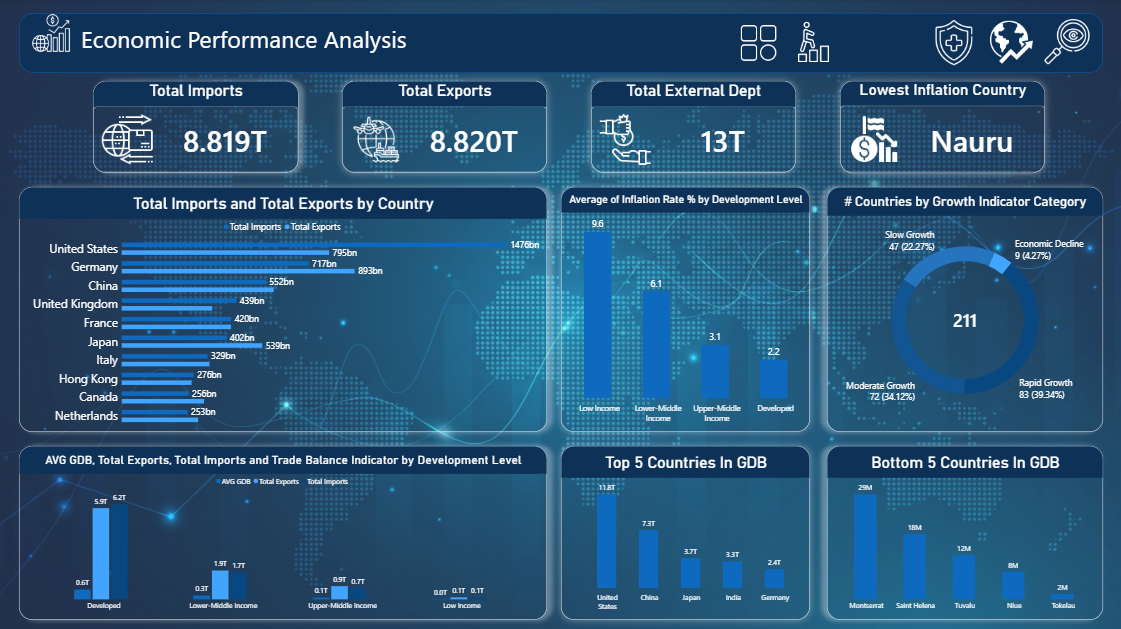

The dashboard page shown, as its layout file describes it:
{"tool":"powerbi","page":{"name":"Economic Performance Analysis","canvas":[2560,1440],"ordinal":2},"visuals":[{"type":"shape","box":[45.6,31.9,2469.9,136.7],"z":0},{"type":"textbox","box":[186.8,54.7,754.2,91.1],"z":1000},{"type":"image","box":[66.1,31.9,104.8,91.1],"z":2000},{"type":"cardVisual","title":"Total External Dept","fields":{"Data":["Dax Measures.Total External Depts"]},"box":[1349.7,187.6,467,209],"z":3000},{"type":"cardVisual","title":"Total Exports","fields":{"Data":["Dax Measures.Total Exports"]},"box":[781.9,187.6,467,209],"z":4000},{"type":"cardVisual","title":"Total Imports","fields":{"Data":["Dax Measures.Total Imports"]},"box":[213.3,187.6,467.8,209],"z":5000},{"type":"cardVisual","title":"Lowest Inflation Country","fields":{"Data":["Dax Measures.Lowest Inflation Country"]},"box":[1916.2,186.8,467.1,209.6],"z":6000},{"type":"clusteredBarChart","fields":{"Category":["Country Data Comparison.Country"],"Y":["Dax Measures.Total Imports","Dax Measures.Total Exports"]},"box":[45.6,428.4,1203,558.2],"z":7000},{"type":"clusteredColumnChart","fields":{"Category":["Country Data Comparison.Development Level"],"Y":["Avg(Country Data Comparison.Inflation Rate %)"]},"box":[1280.5,428.4,567.3,558.2],"z":8000},{"type":"donutChart","fields":{"Category":["Country Data Comparison.Growth Indicator Category"],"Y":["Dax Measures.# Countries"]},"box":[1886.6,428.4,628.9,558.2],"z":9000},{"type":"clusteredColumnChart","fields":{"Category":["Country Data Comparison.Development Level"],"Y":["Dax Measures.AVG GDB","Dax Measures.Total Exports","Dax Measures.Total Imports"]},"box":[45.6,1018.5,1203,396.5],"z":10000},{"type":"clusteredColumnChart","title":"Top 5 Countries In GDB","fields":{"Category":["Country Data Comparison.Country"],"Y":["Dax Measures.Total GDB"]},"box":[1280.5,1018.5,567.3,396.5],"z":11000},{"type":"clusteredColumnChart","title":"Bottom 5 Countries In GDB","fields":{"Category":["Country Data Comparison.Country"],"Y":["Dax Measures.Total GDB"]},"box":[1886.6,1018.5,628.9,396.5],"z":12000},{"type":"image","box":[2121.3,47.8,109.4,102.5],"z":13000},{"type":"image","box":[2381,45.6,104.8,102.5],"z":14000},{"type":"image","box":[2253.4,47.8,109.4,102.5],"z":15000},{"type":"image","box":[1806.8,47.8,98,100.3],"z":16000},{"type":"image","box":[1674.7,50.1,111.6,100.3],"z":18000}]}

Visuals, with their boxes in screenshot pixels (x1, y1, x2, y2), scaled from the page's 2560x1440 canvas onto the 1121x629 screenshot:
shape: 20,14,1102,74
textbox: 82,24,412,64
image: 29,14,75,54
"Total External Dept" cardVisual: 591,82,796,173
"Total Exports" cardVisual: 342,82,547,173
"Total Imports" cardVisual: 93,82,298,173
"Lowest Inflation Country" cardVisual: 839,82,1044,173
clusteredBarChart - Country Data Comparison.Country x Dax Measures.Total Imports: 20,187,547,431
clusteredColumnChart - Country Data Comparison.Development Level x Avg(Country Data Comparison.Inflation Rate %): 561,187,809,431
donutChart - Country Data Comparison.Growth Indicator Category x Dax Measures.# Countries: 826,187,1102,431
clusteredColumnChart - Country Data Comparison.Development Level x Dax Measures.AVG GDB: 20,445,547,618
"Top 5 Countries In GDB" clusteredColumnChart: 561,445,809,618
"Bottom 5 Countries In GDB" clusteredColumnChart: 826,445,1102,618
image: 929,21,977,66
image: 1043,20,1089,65
image: 987,21,1035,66
image: 791,21,834,65
image: 733,22,782,66
